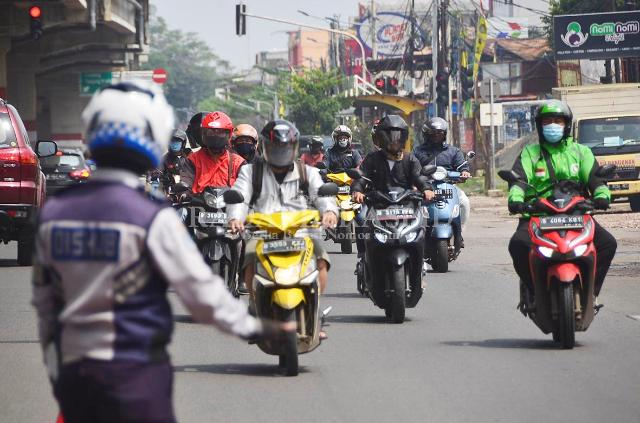helm: (84, 76, 181, 175), (259, 121, 301, 172), (533, 99, 576, 147), (373, 116, 412, 163), (197, 112, 236, 157), (419, 115, 453, 153), (332, 126, 355, 152)
motor: (497, 169, 613, 355), (237, 201, 341, 377), (344, 168, 438, 330), (180, 186, 247, 312), (416, 166, 477, 282), (317, 170, 366, 257)
